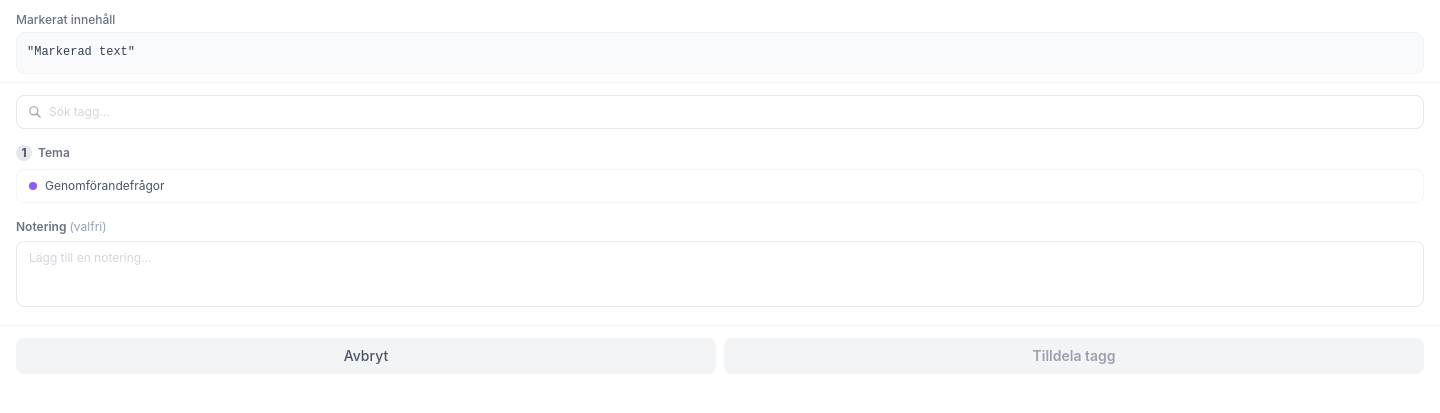
it: AssignTagPanel › shows merged custom categories in search results
Step 1. Type "kommunala" into the field with placeholder "Sök tagg..." → (720, 112), box 16,94 -> 1424,128
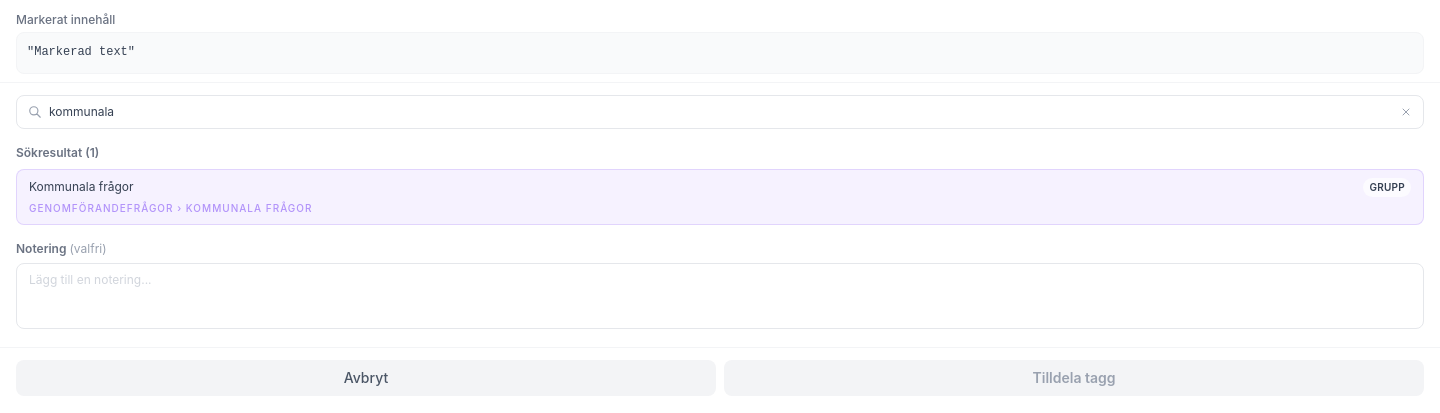
Expected: the text "Kommunala frågor" is shown, 29,179 -> 134,195
